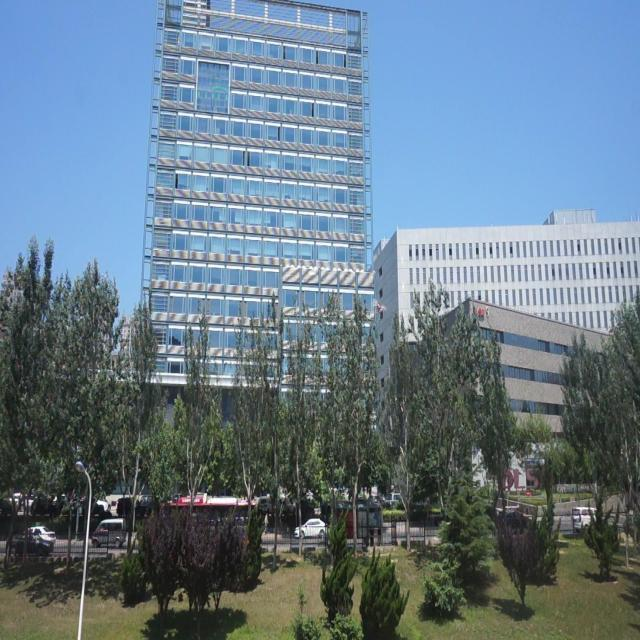drone: (371, 294, 388, 318)
